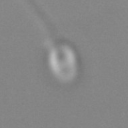normal: (20, 1, 57, 46)
